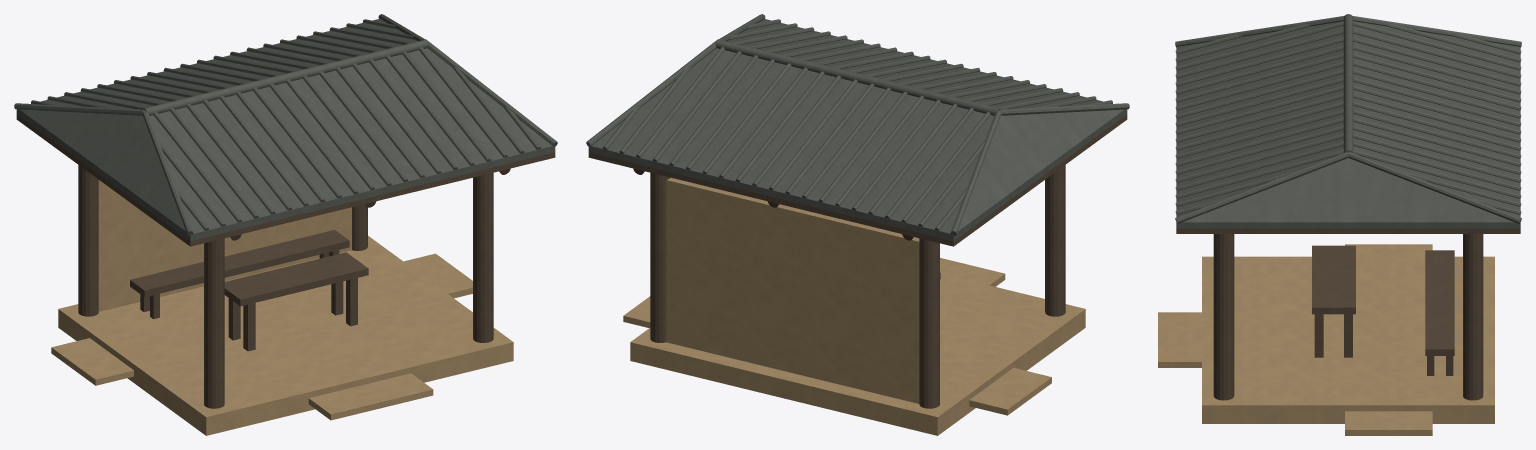
The model's file is guard-unit-LOD0.glb.
3 renders of one model, left to right at view 1: azimuth 30°, elevation 25°; view 2: azimuth 150°, elevation 25°; view 3: azimuth 270°, elevation 25°, orthographic.
Parts seen in each view (by area): view 1: guard-unit-unit-tile, guard-unit-unit-earth, guard-unit-unit-timber; view 2: guard-unit-unit-tile, guard-unit-unit-earth, guard-unit-unit-timber; view 3: guard-unit-unit-tile, guard-unit-unit-earth, guard-unit-unit-timber.
Part boxes in pixels (x1,y1,x2,y2): guard-unit-unit-tile: (14,14,557,241); guard-unit-unit-earth: (51,180,513,435); guard-unit-unit-timber: (16,114,555,408); guard-unit-unit-tile: (586,14,1129,241); guard-unit-unit-earth: (623,177,1085,435); guard-unit-unit-timber: (588,114,1127,408); guard-unit-unit-tile: (1175,14,1521,228); guard-unit-unit-earth: (1158,244,1494,435); guard-unit-unit-timber: (1176,228,1520,400).
Size of the model in its own units: 6 by 4.03 by 4.97.
3 materials, 3 textured.
